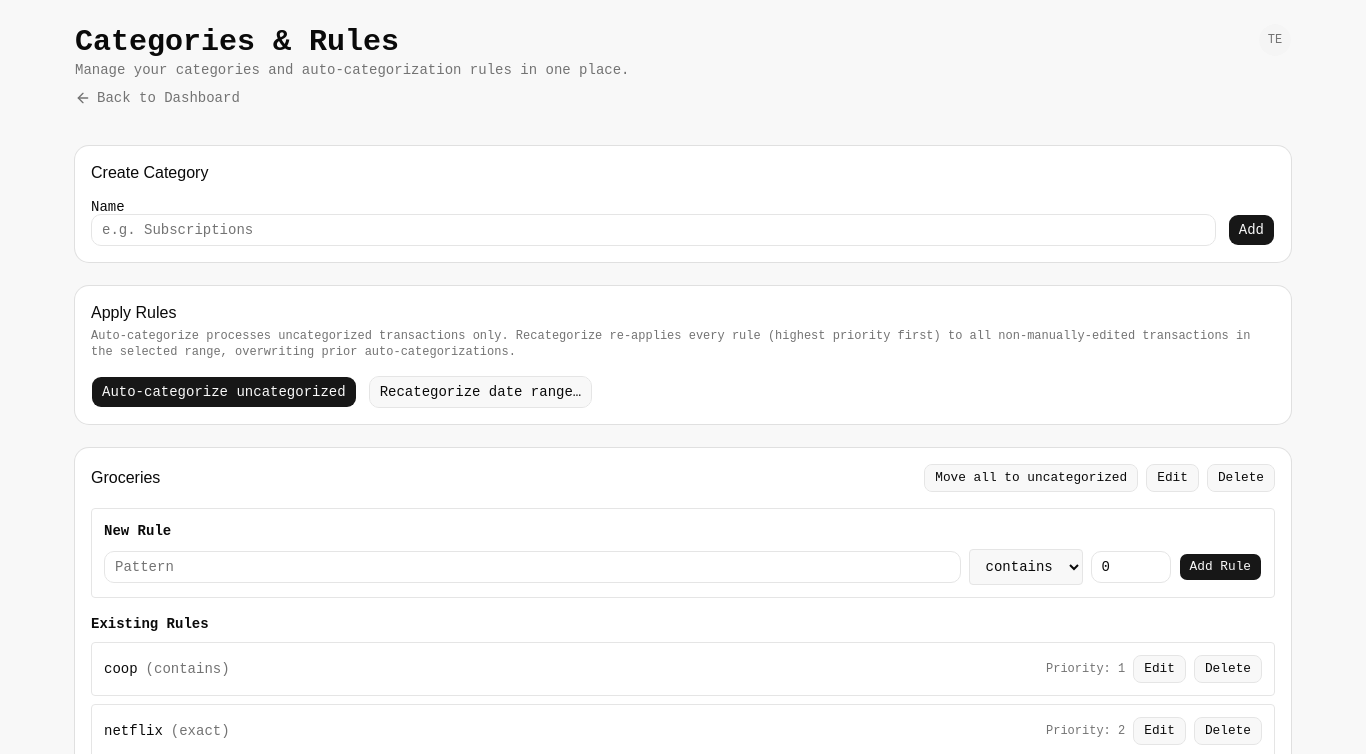
Test: CategoriesPage › shows validation error when creating category with empty name
Check: the heading "Groceries" is shown, box [91,466,160,490]
Click the button "Add" at (1251, 230), box [1228,214,1275,246]
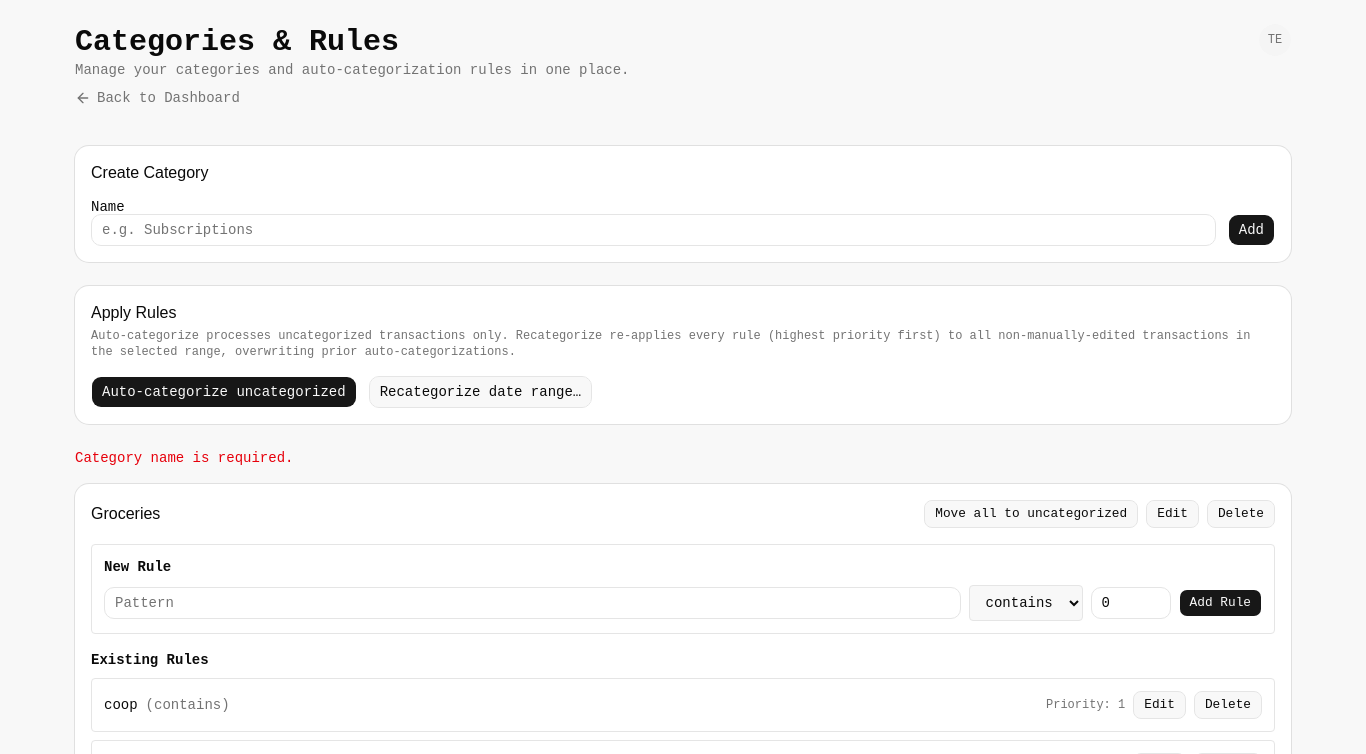
Check: the text "Category name is required." is shown, box [75,450,293,466]
